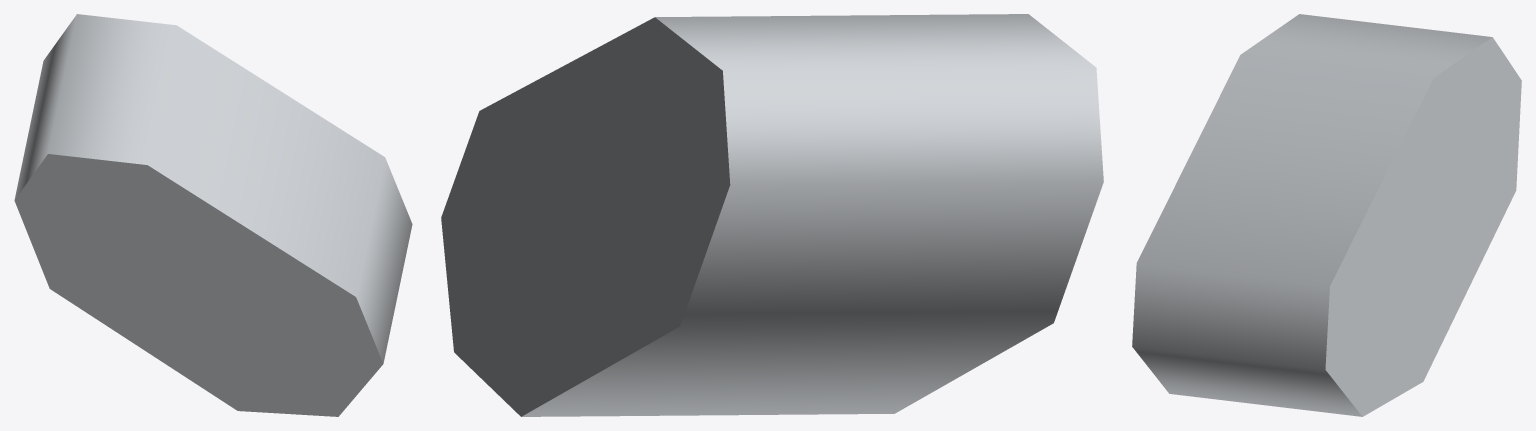
The model's file is Kadis.fbx.
The picture shows the model from 3 angles, left to right: view 1: azimuth 30°, elevation 25°; view 2: azimuth 150°, elevation 25°; view 3: azimuth 270°, elevation 25°; orthographic projection. The views are drawn at different scales.
Parts seen in each view (by area): view 1: root; view 2: root; view 3: root.
Boxes of the visible parts, box(x1,y1,x2,y2) form: root: box(14, 14, 412, 416); root: box(441, 14, 1103, 416); root: box(1132, 14, 1521, 416).
Bounding box in the file's own units: 0.4131 × 0.3073 × 0.3521.
1 material, 1 textured.
